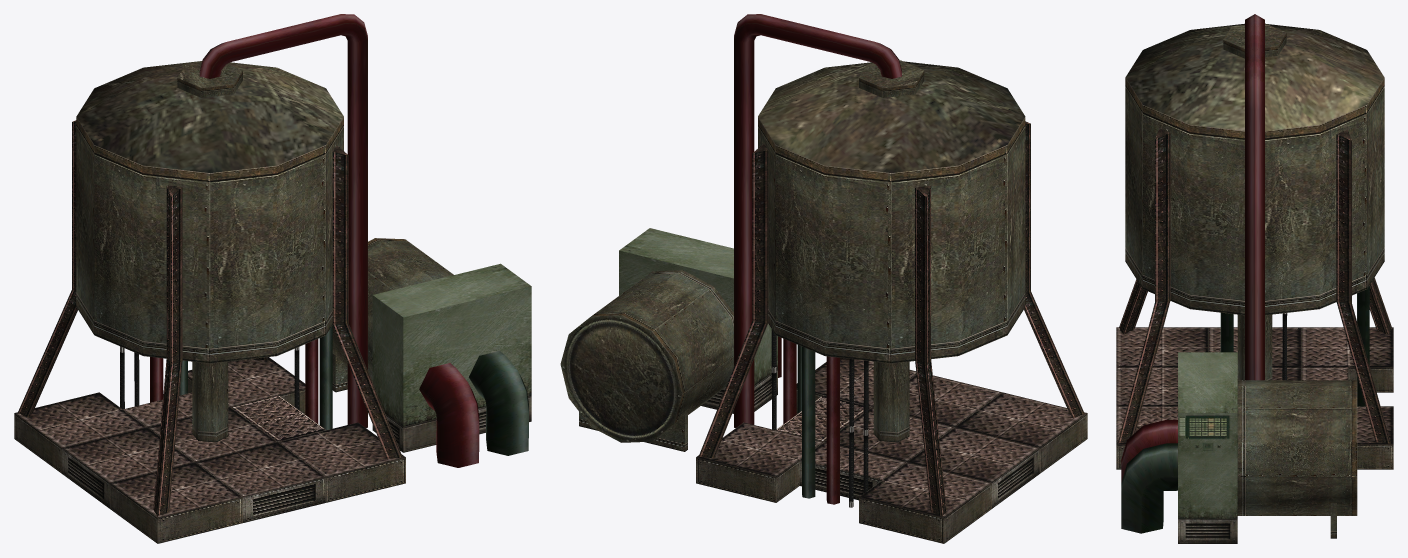
Rendered from liquid_tanks_2.fbx.
3 renders of one model, left to right at view 1: azimuth 30°, elevation 25°; view 2: azimuth 150°, elevation 25°; view 3: azimuth 270°, elevation 25°, orthographic. The views are drawn at different scales.
Parts seen in each view (by area): view 1: mesh_4, mesh_5, mesh_3, mesh_8, mesh_2, mesh_6, mesh_16, mesh_15, mesh_7, mesh_13, mesh_14, mesh_12; view 2: mesh_4, mesh_5, mesh_15, mesh_8, mesh_2, mesh_3, mesh_7, mesh_10, mesh_12, mesh_14, mesh_1, mesh_9 (+1 smaller); view 3: mesh_4, mesh_15, mesh_5, mesh_3, mesh_8, mesh_2, mesh_16, mesh_6, mesh_7, mesh_10, mesh_13, mesh_0.
Boxes of the visible parts, left/top/right/bottom form: mesh_4: left=76, top=61, right=343, bottom=363; mesh_5: left=14, top=357, right=405, bottom=543; mesh_3: left=372, top=263, right=531, bottom=452; mesh_8: left=17, top=120, right=402, bottom=516; mesh_2: left=199, top=14, right=367, bottom=427; mesh_6: left=419, top=363, right=479, bottom=467; mesh_16: left=469, top=351, right=528, bottom=455; mesh_15: left=332, top=238, right=453, bottom=381; mesh_7: left=192, top=361, right=228, bottom=442; mesh_13: left=319, top=325, right=332, bottom=429; mesh_14: left=305, top=339, right=318, bottom=423; mesh_12: left=150, top=357, right=163, bottom=402; mesh_4: left=758, top=60, right=1025, bottom=363; mesh_5: left=696, top=359, right=1087, bottom=543; mesh_15: left=560, top=270, right=733, bottom=442; mesh_8: left=698, top=121, right=1084, bottom=516; mesh_2: left=734, top=14, right=901, bottom=427; mesh_3: left=619, top=228, right=777, bottom=413; mesh_7: left=873, top=361, right=909, bottom=442; mesh_10: left=802, top=346, right=815, bottom=498; mesh_12: left=826, top=356, right=839, bottom=504; mesh_14: left=783, top=338, right=796, bottom=423; mesh_1: left=579, top=412, right=687, bottom=451; mesh_9: left=849, top=359, right=854, bottom=507; mesh_4: left=1125, top=23, right=1384, bottom=315; mesh_15: left=1237, top=380, right=1357, bottom=515; mesh_5: left=1116, top=327, right=1393, bottom=469; mesh_3: left=1178, top=352, right=1237, bottom=543; mesh_8: left=1118, top=128, right=1392, bottom=443; mesh_2: left=1245, top=14, right=1264, bottom=380; mesh_16: left=1121, top=443, right=1177, bottom=533; mesh_6: left=1121, top=419, right=1177, bottom=482; mesh_7: left=1237, top=314, right=1272, bottom=380; mesh_10: left=1357, top=286, right=1369, bottom=406; mesh_13: left=1220, top=312, right=1233, bottom=352; mesh_0: left=1282, top=313, right=1287, bottom=380.
Bounding box in the file's own units: 588 × 575 × 360.
Materials: 1 (1 with a texture image).
